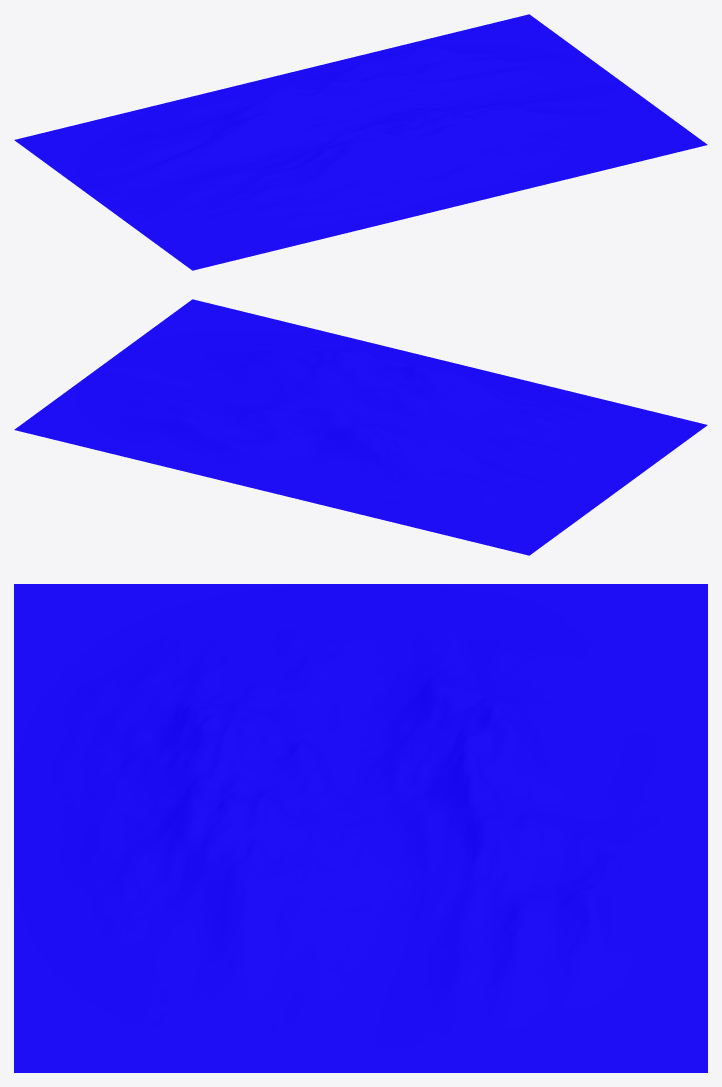
Rendered from mountain_blue.glb.
3 views of the same model, one above another, from view 1: azimuth 30°, elevation 25°; view 2: azimuth 150°, elevation 25°; view 3: azimuth 270°, elevation 25° (orthographic). The views are drawn at different scales.
Visible parts, largest first — view 1: Landscape; view 2: Landscape; view 3: Landscape.
Boxes of the visible parts, x1,y1,x2,y2 form: Landscape: (14,14,707,270); Landscape: (14,299,707,555); Landscape: (14,584,707,1072).
Size of the model in its own units: 4 by 0.3124 by 2.4.
